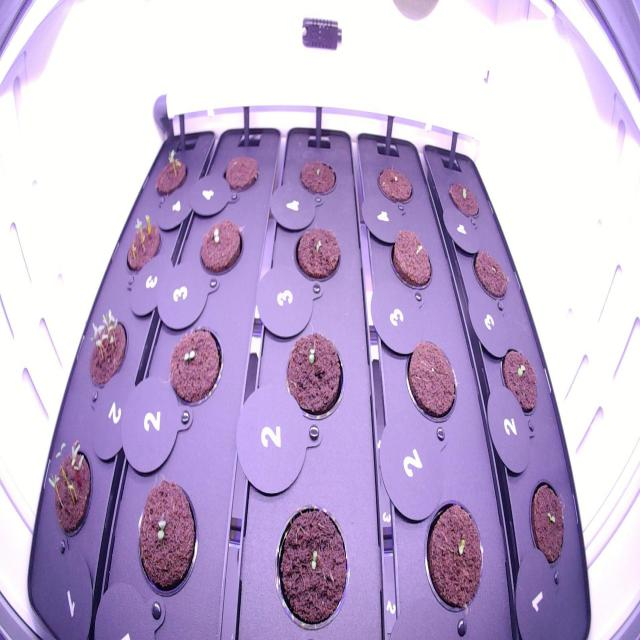germination: (268, 493, 354, 636), (125, 468, 205, 605), (420, 491, 493, 618), (280, 327, 349, 429), (160, 318, 228, 417), (43, 429, 97, 548), (522, 471, 572, 573), (81, 304, 130, 402), (191, 212, 249, 290), (286, 220, 346, 290), (495, 337, 545, 421), (384, 224, 436, 299), (117, 208, 165, 278), (148, 143, 192, 202), (442, 174, 485, 227)
pod: (399, 334, 464, 434), (292, 148, 341, 204), (468, 244, 512, 305), (371, 161, 418, 213), (218, 148, 266, 195)
